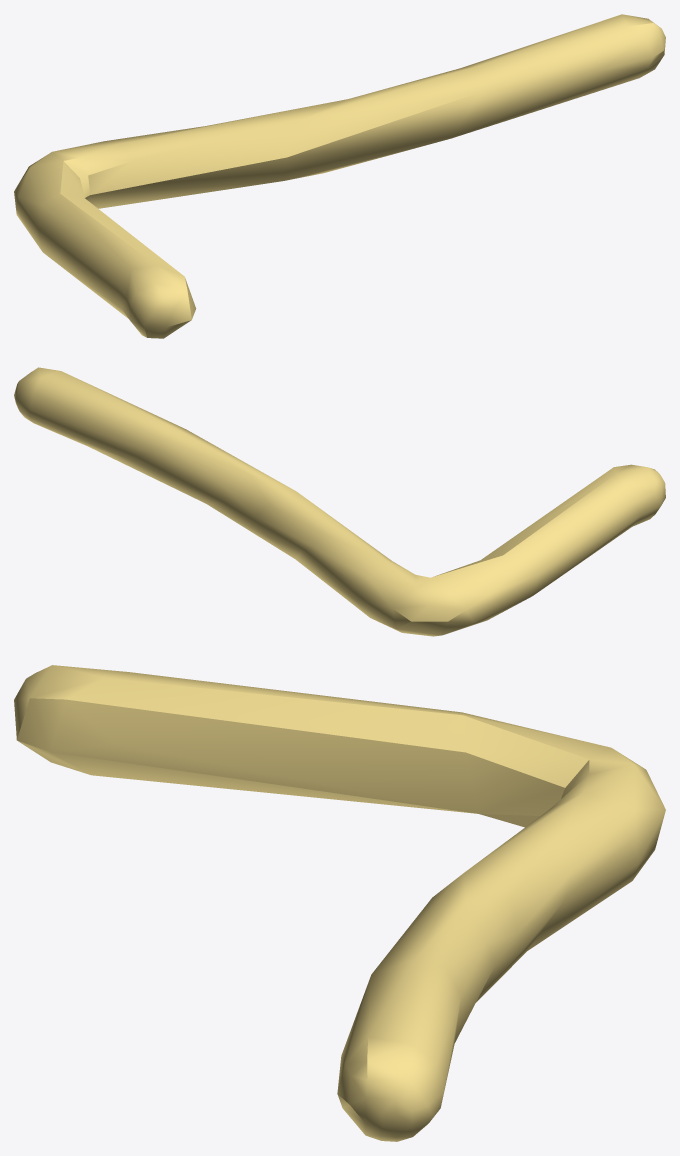
The model's file is fma52676_fj1333.glb.
The picture shows the model from 3 angles, top to bottom: view 1: azimuth 30°, elevation 25°; view 2: azimuth 150°, elevation 25°; view 3: azimuth 270°, elevation 25°; orthographic projection. The views are drawn at different scales.
Parts seen in each view (by area): view 1: FMA52676_FJ1333; view 2: FMA52676_FJ1333; view 3: FMA52676_FJ1333.
Part boxes in pixels (bbox=[...]): FMA52676_FJ1333: bbox=[14, 14, 665, 338]; FMA52676_FJ1333: bbox=[14, 367, 665, 636]; FMA52676_FJ1333: bbox=[14, 665, 665, 1141].
Bounding box in the file's own units: 0.00774 × 0.00148 × 0.00436.
